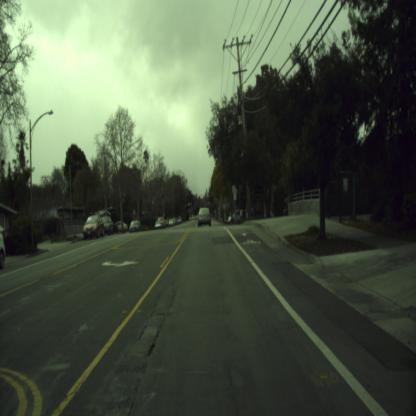Green: (205, 200, 207, 206)
